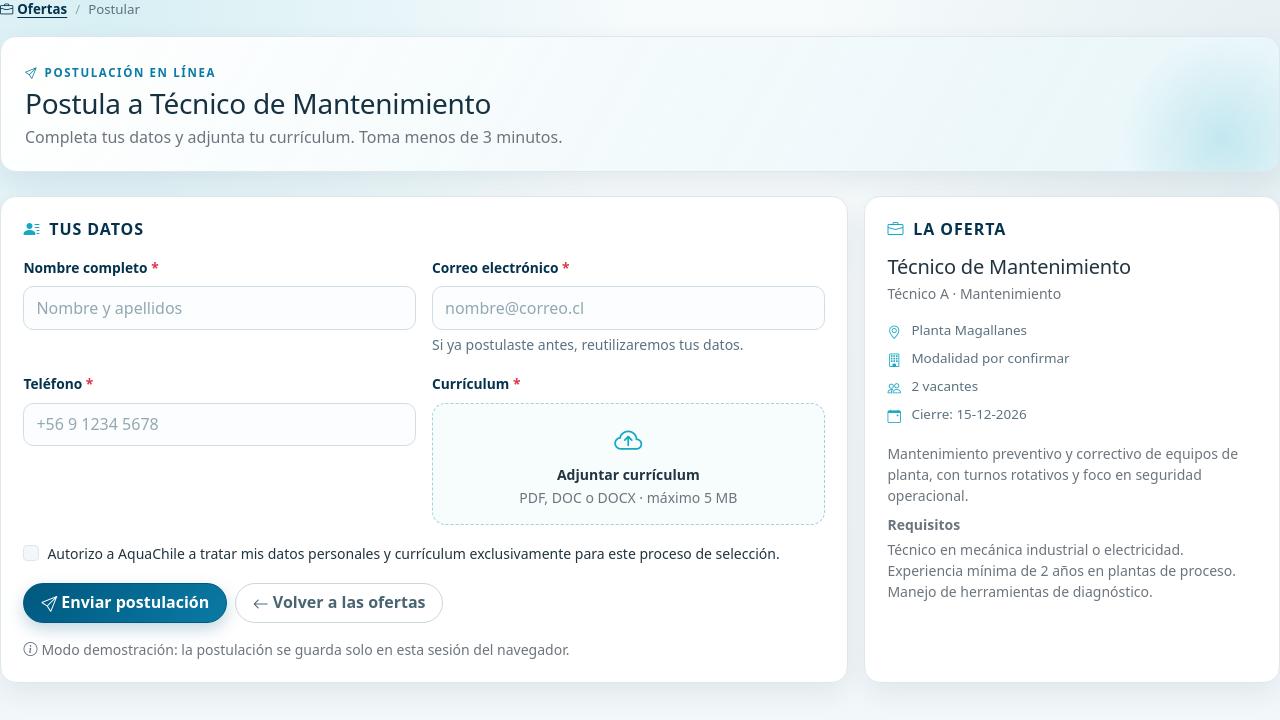
Test: PostulacionPage › muestra la oferta y exige los datos mínimos
This screenshot has width=1280, height=720.
Expected: the heading "Postula a Técnico de Mantenimiento" is shown, [25,84,491,122]
Click the button "Enviar postulación".
click(125, 603)  # box [23,583,227,623]
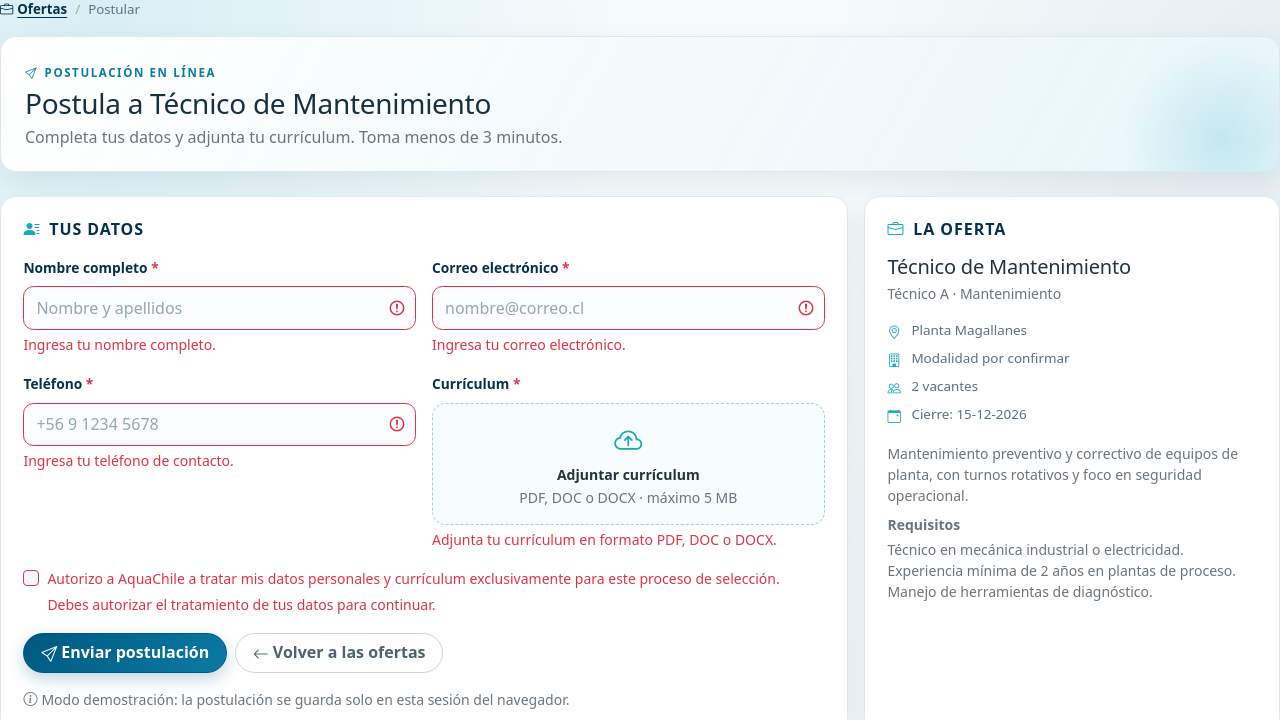
Expected: the text "Ingresa tu nombre completo." is shown, [23,335,216,354]
Expected: the text "Adjunta tu currículum en formato PDF, DOC o DOCX." is shown, [432,529,825,550]
Expected: the text "Debes autorizar el tratamiento de tus datos para continuar." is shown, [47,595,436,614]
